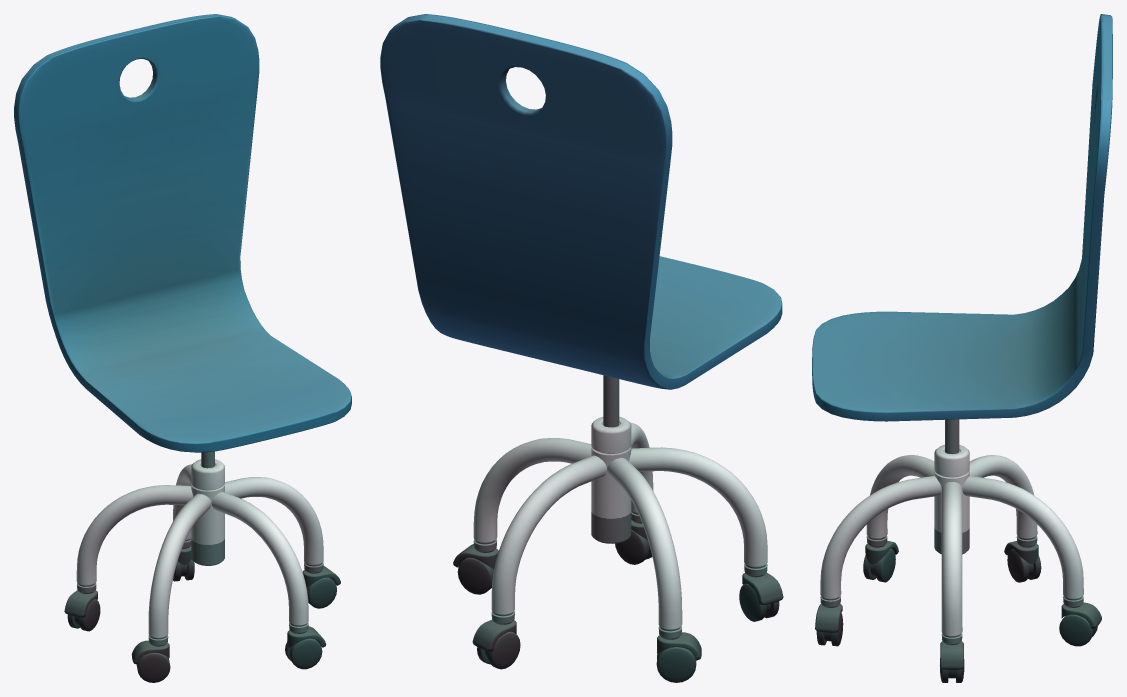
The model's file is chair2.glb.
The picture shows the model from 3 angles, left to right: view 1: azimuth 30°, elevation 25°; view 2: azimuth 150°, elevation 25°; view 3: azimuth 270°, elevation 25°; orthographic projection. The views are drawn at different scales.
Parts seen in each view (by area): view 1: chair.1; view 2: chair.1; view 3: chair.1.
Boxes of the visible parts, <box> form: chair.1: <box>14,14,351,682</box>; chair.1: <box>380,14,783,682</box>; chair.1: <box>812,14,1112,682</box>.
Bounding box in the file's own units: 0.2295 × 0.482 × 0.2298.
Materials: 1 (1 with a texture image).
